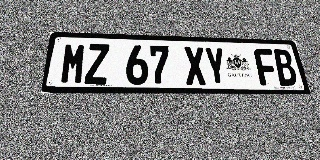6: (126, 45, 148, 85)
7: (148, 45, 171, 85)
B: (272, 49, 299, 86)
F: (253, 49, 280, 86)
M: (59, 43, 87, 84)
X: (183, 46, 207, 85)
Y: (204, 47, 228, 85)
Z: (84, 44, 110, 84)
